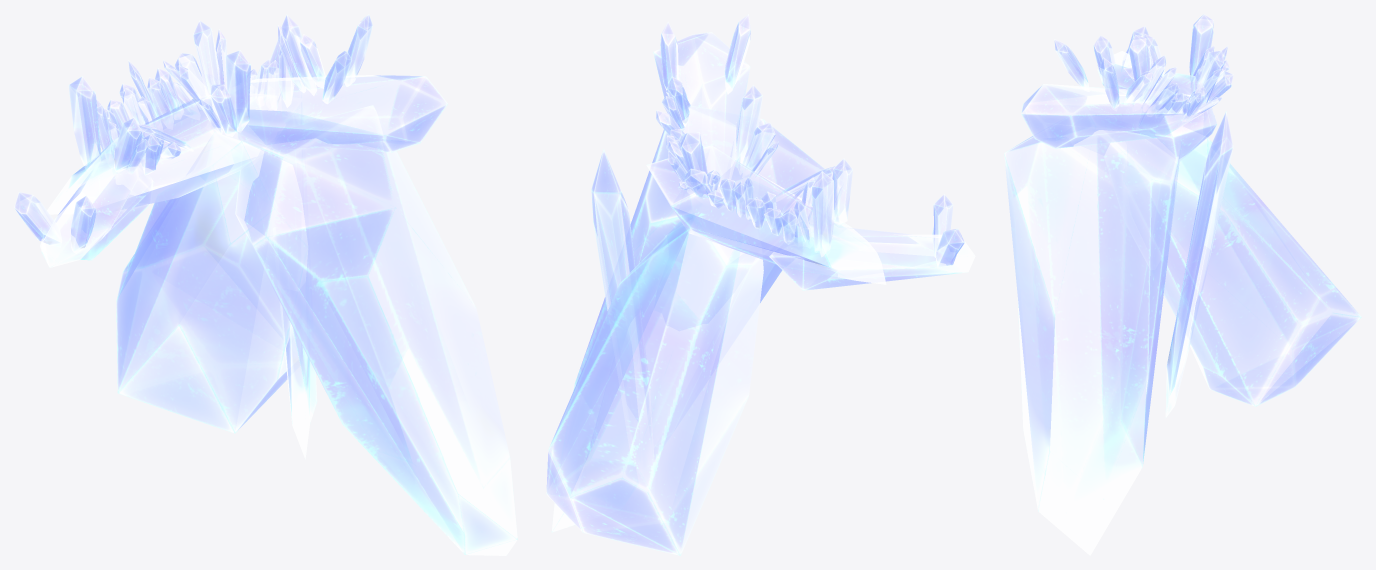
The model's file is CrystalBridge.fbx.
3 renders of one model, left to right at view 1: azimuth 30°, elevation 25°; view 2: azimuth 150°, elevation 25°; view 3: azimuth 270°, elevation 25°, orthographic. The views are drawn at different scales.
Parts seen in each view (by area): view 1: Cube.128; view 2: Cube.128; view 3: Cube.128.
Part boxes in pixels (x1,y1,x2,y2): Cube.128: (14,14,517,555); Cube.128: (546,14,975,555); Cube.128: (1004,14,1361,555).
Size of the model in its own units: 14349 by 16932 by 12228.
